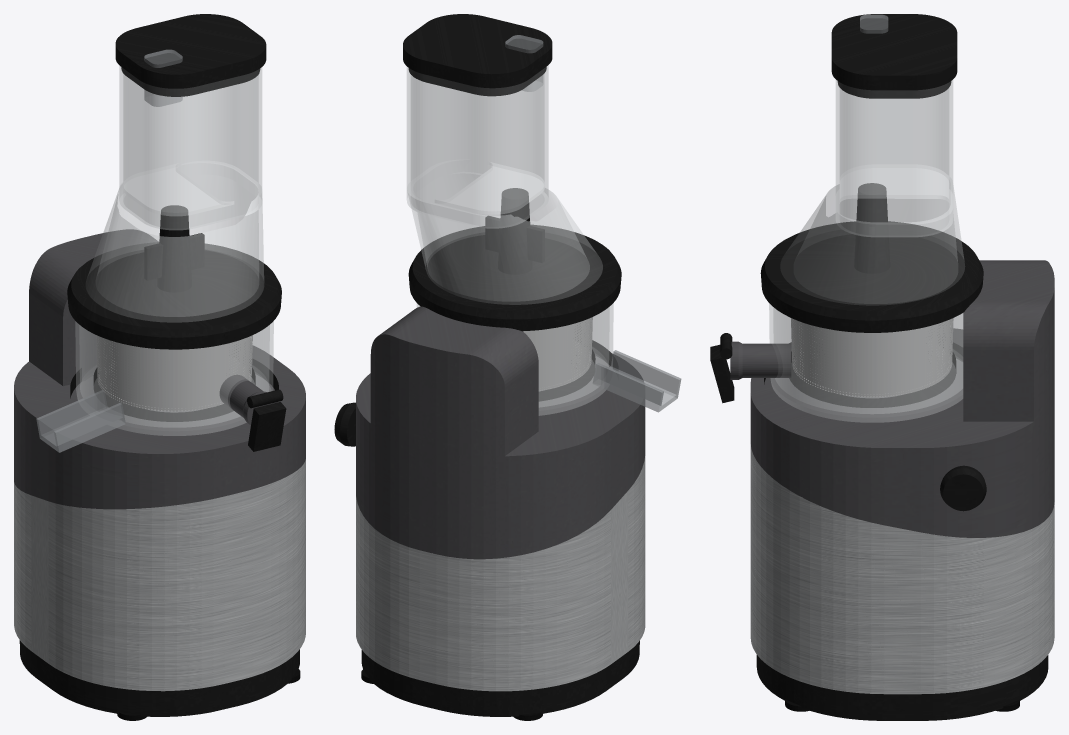
Rendered from press_pro.glb.
3 views of the same model, side by side, from view 1: azimuth 30°, elevation 25°; view 2: azimuth 150°, elevation 25°; view 3: azimuth 270°, elevation 25° (orthographic). The views are drawn at different scales.
Parts seen in each view (by area): view 1: SteelHousing, JuiceBowl, BaseFoot, UpperHousing, Strainer, PulpOutlet; view 2: UpperHousing, SteelHousing, JuiceBowl, BaseFoot, PulpOutlet, Strainer; view 3: SteelHousing, UpperHousing, JuiceBowl, BaseFoot, Strainer, PulpOutlet.
Boxes of the visible parts, x1,y1,x2,y2 form: SteelHousing: (14,459,305,691); JuiceBowl: (75,66,273,435); BaseFoot: (20,14,299,716); UpperHousing: (14,229,305,509); Strainer: (96,335,252,411); PulpOutlet: (36,49,182,452); UpperHousing: (356,306,645,559); SteelHousing: (356,456,645,691); JuiceBowl: (406,65,613,415); BaseFoot: (334,14,639,716); PulpOutlet: (505,35,681,412); Strainer: (523,317,592,390); SteelHousing: (750,444,1054,694); UpperHousing: (730,260,1054,537); JuiceBowl: (769,80,964,422); BaseFoot: (710,14,1048,720); Strainer: (791,318,953,397); PulpOutlet: (860,14,888,33).
Size of the model in its own units: 0.1608 by 0.348 by 0.1699.
7 materials, 5 textured.
